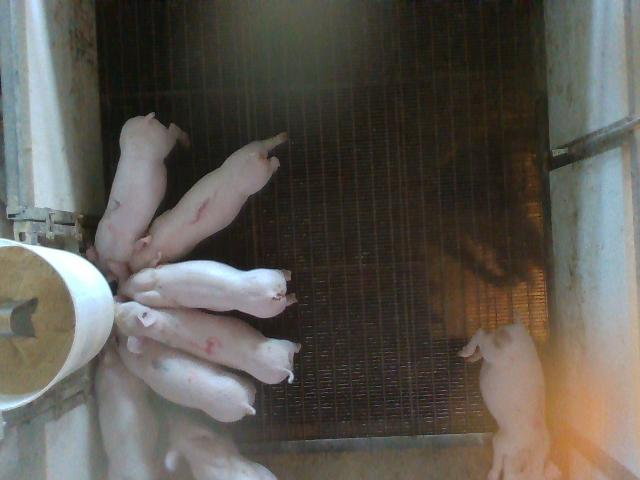pig-1: (130, 133, 288, 272)
pig-3: (459, 322, 561, 478)
pig-4: (115, 301, 299, 383)
